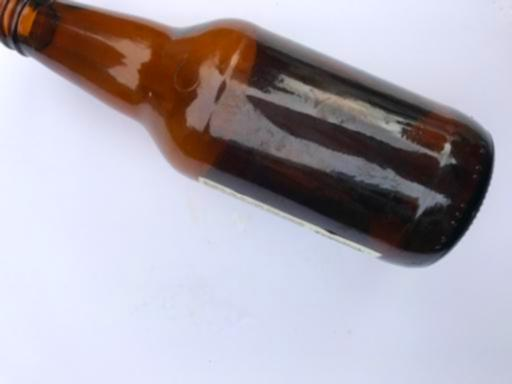alcohol: (0, 1, 495, 270)
glass: (0, 1, 495, 270)
sodocalcique: (0, 1, 495, 270)
